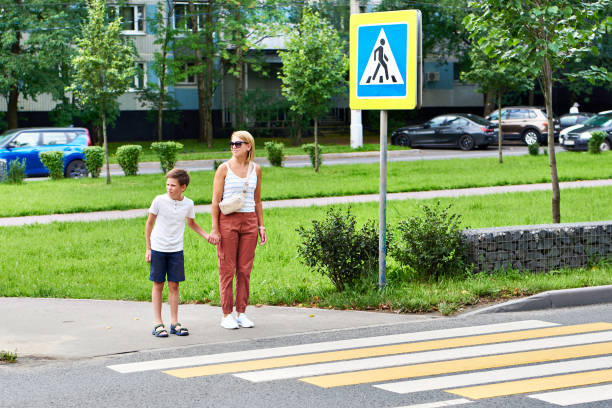yaya: (191, 118, 271, 339), (131, 158, 213, 349)
yaya_gecidi: (346, 13, 419, 117)
